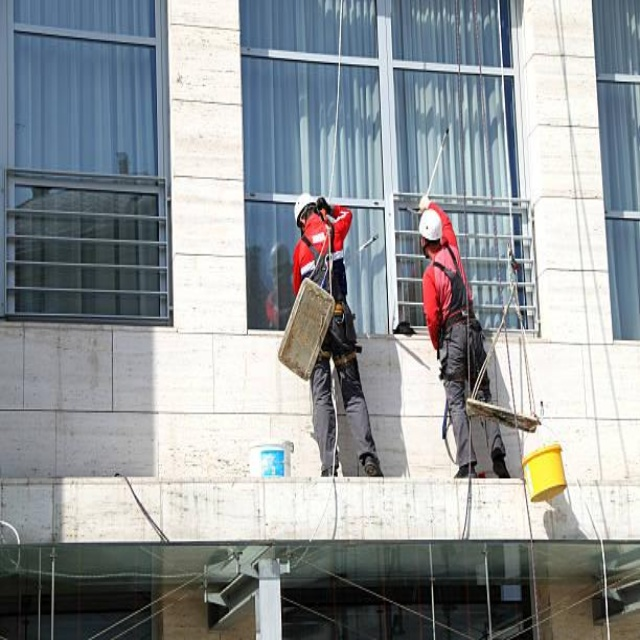Arnes_seguridad: (429, 247, 482, 382), (299, 226, 349, 344)
